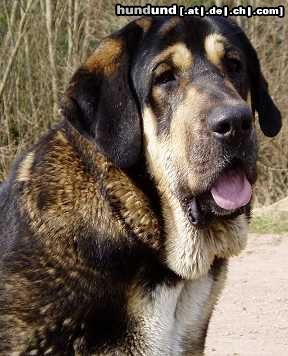mastin_espanol: (0, 13, 282, 356)
